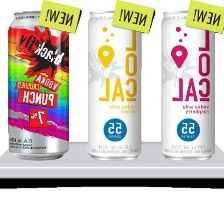can: (79, 6, 150, 164), (4, 6, 74, 166), (157, 6, 219, 165)
